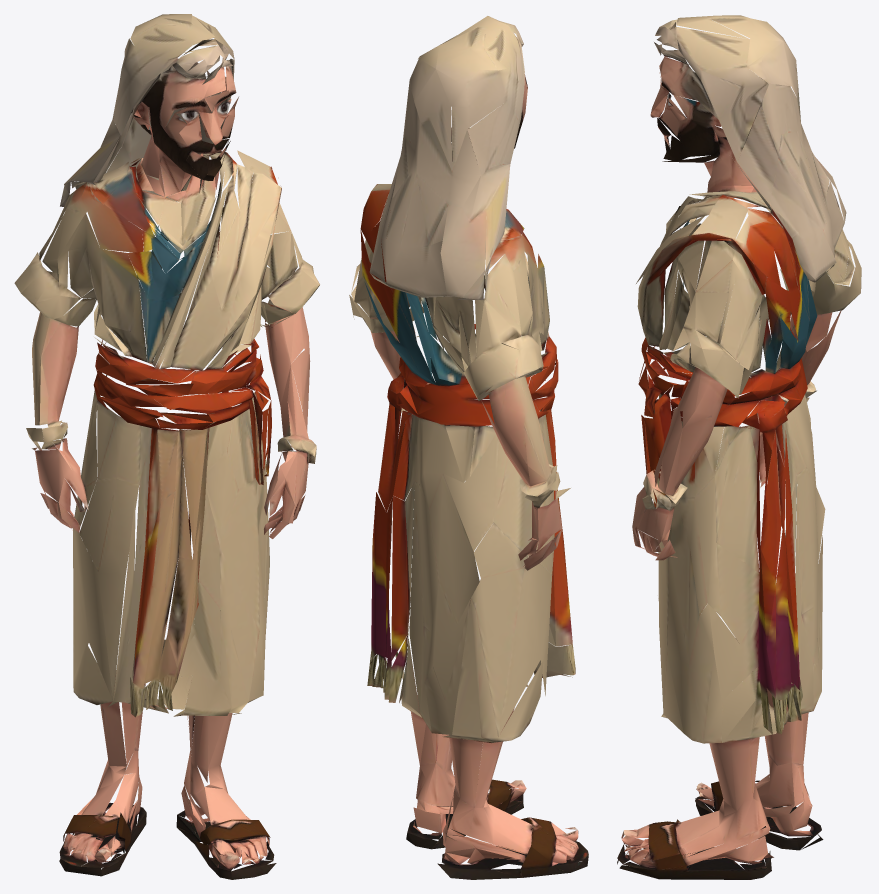
File: prop_villager.glb
The picture shows the model from 3 angles, left to right: view 1: azimuth 30°, elevation 25°; view 2: azimuth 150°, elevation 25°; view 3: azimuth 270°, elevation 25°; orthographic projection. The views are drawn at different scales.
Visible parts, largest first — view 1: body; view 2: body; view 3: body.
Boxes of the visible parts, bbox=[...] form: body: bbox=[14, 14, 319, 879]; body: bbox=[349, 16, 588, 879]; body: bbox=[617, 15, 861, 879].
Bounding box in the file's own units: 0.5445 × 1.7 × 0.4566.
1 material, 1 textured.
